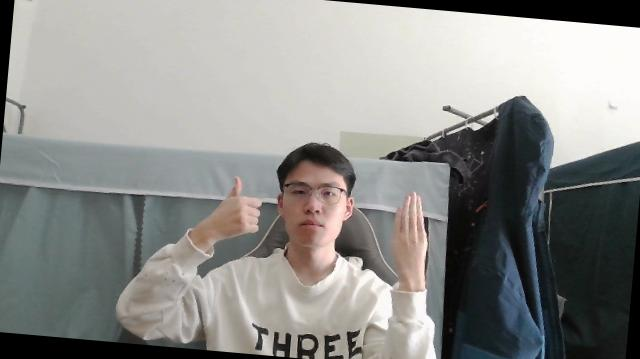four: (389, 190, 434, 272)
